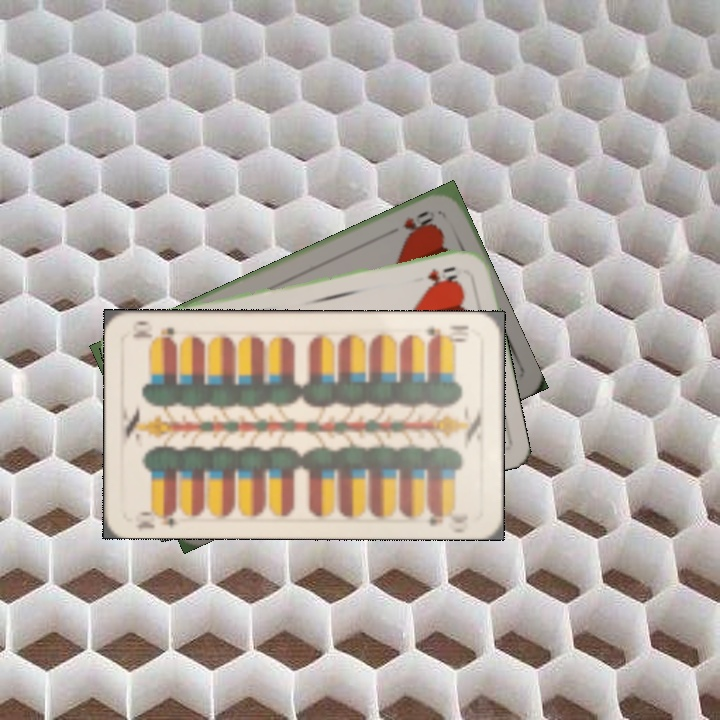E10: (133, 503, 187, 530), (420, 321, 471, 345)
HO: (399, 206, 436, 238), (423, 262, 460, 286)
